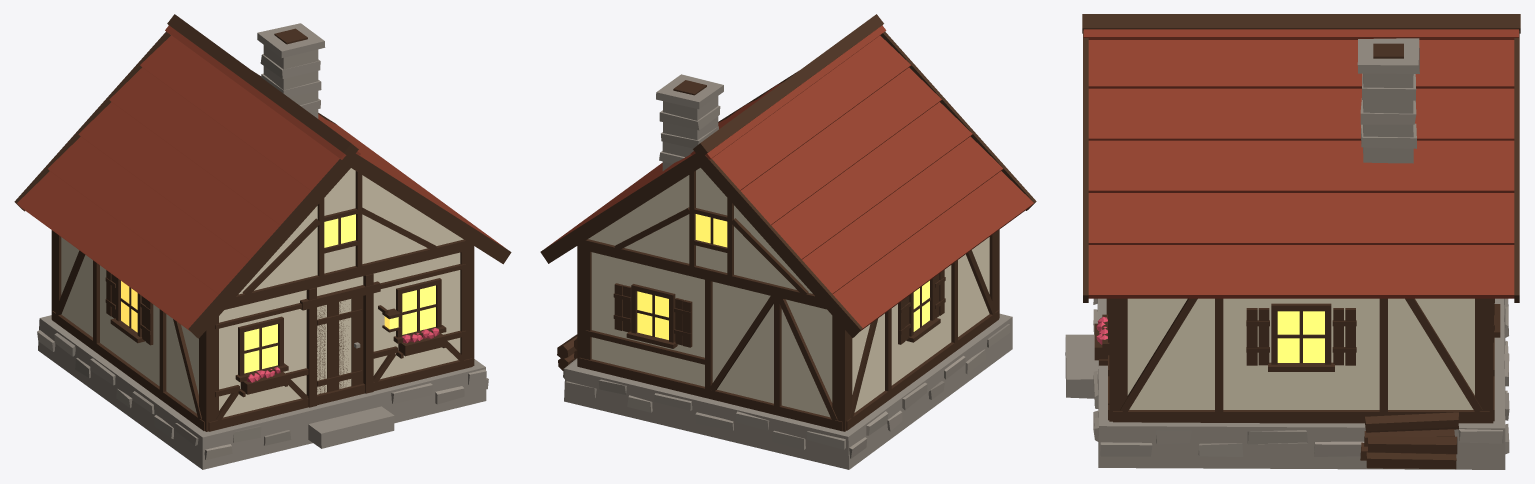
Rendered from house.glb.
3 renders of one model, left to right at view 1: azimuth 30°, elevation 25°; view 2: azimuth 150°, elevation 25°; view 3: azimuth 270°, elevation 25°, orthographic. The views are drawn at different scales.
Parts seen in each view (by area): view 1: house; view 2: house; view 3: house.
Part boxes in pixels (left/top/right/bottom): house: left=14, top=14, right=511, bottom=469; house: left=540, top=14, right=1036, bottom=469; house: left=1065, top=14, right=1520, bottom=469.
Size of the model in its own units: 6.76 by 5.88 by 6.52.
